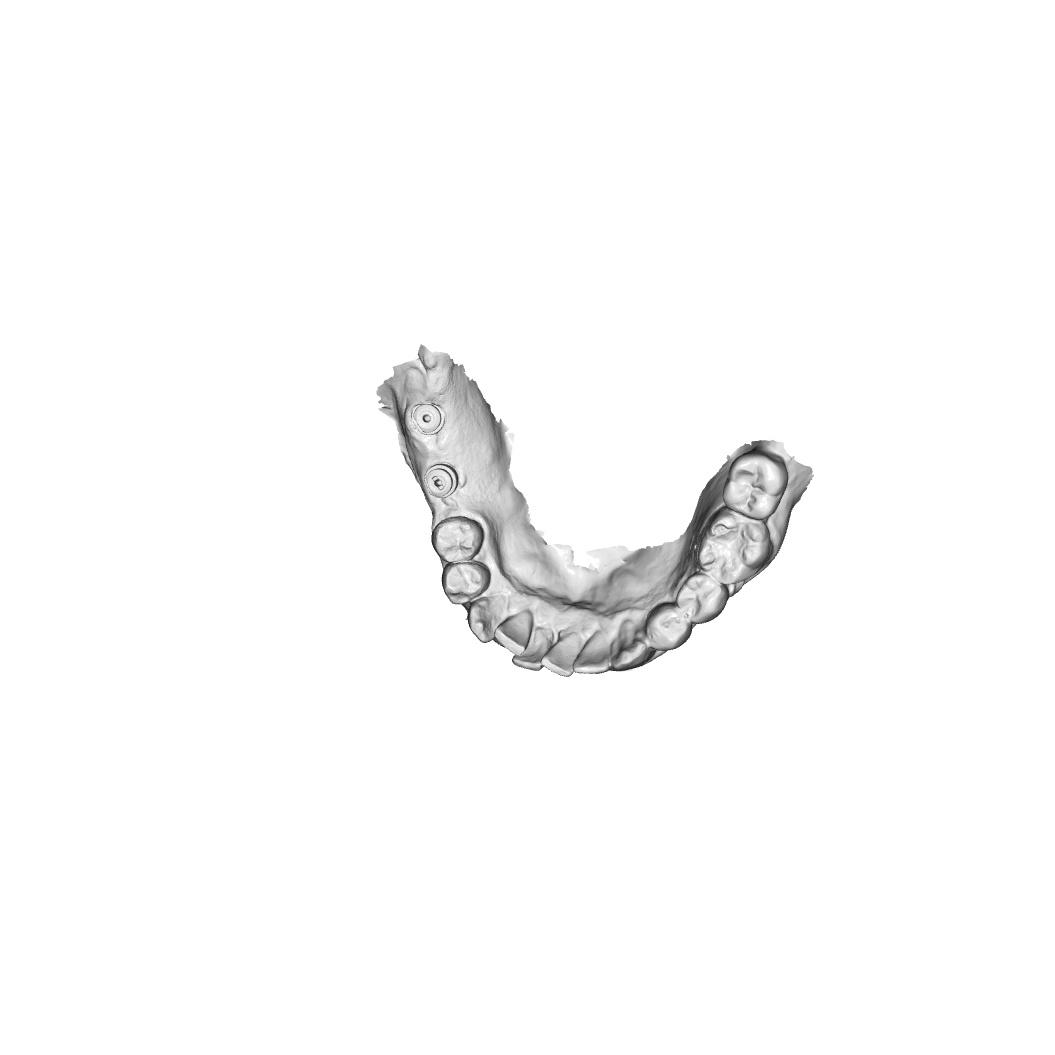canine: (467, 594, 509, 644), (609, 619, 648, 672)
implant: (412, 403, 445, 435)
implant_minus: (423, 463, 459, 498)
incisor: (494, 610, 534, 657), (540, 632, 580, 678), (572, 630, 610, 675), (512, 627, 545, 672)
molar: (698, 507, 772, 585), (722, 451, 789, 520)
premolar: (675, 572, 730, 625), (431, 516, 486, 564), (646, 602, 694, 652), (441, 561, 492, 606)
